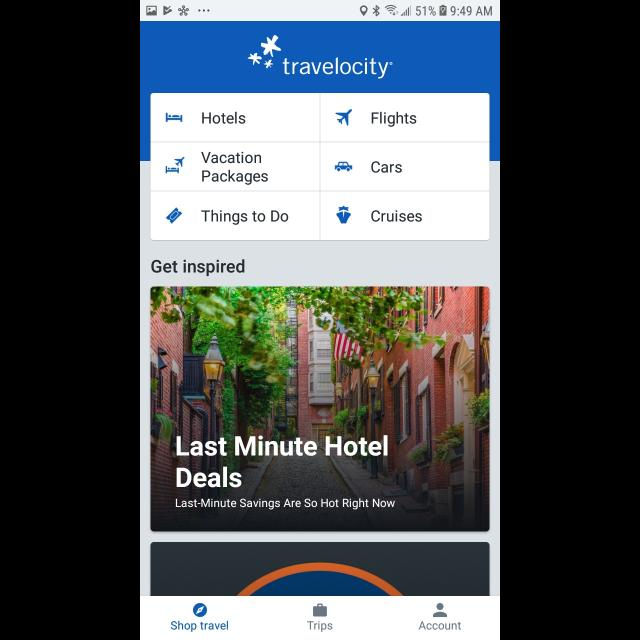icon: (165, 208, 182, 225), (433, 603, 447, 617), (193, 603, 207, 617), (313, 604, 327, 616)
image: (150, 286, 490, 532), (150, 542, 490, 596), (248, 35, 282, 69), (166, 158, 186, 175), (336, 206, 352, 224), (336, 110, 352, 126), (335, 162, 353, 172), (166, 113, 184, 123)
text: (176, 434, 388, 488), (176, 498, 396, 510), (283, 57, 393, 79), (202, 151, 268, 185), (151, 259, 245, 277), (201, 210, 289, 226), (371, 112, 417, 128), (172, 620, 228, 632), (372, 210, 422, 222), (202, 112, 246, 125), (372, 162, 402, 174), (418, 622, 462, 630), (307, 622, 333, 632)
uppertaskbar: (140, 1, 500, 22)
